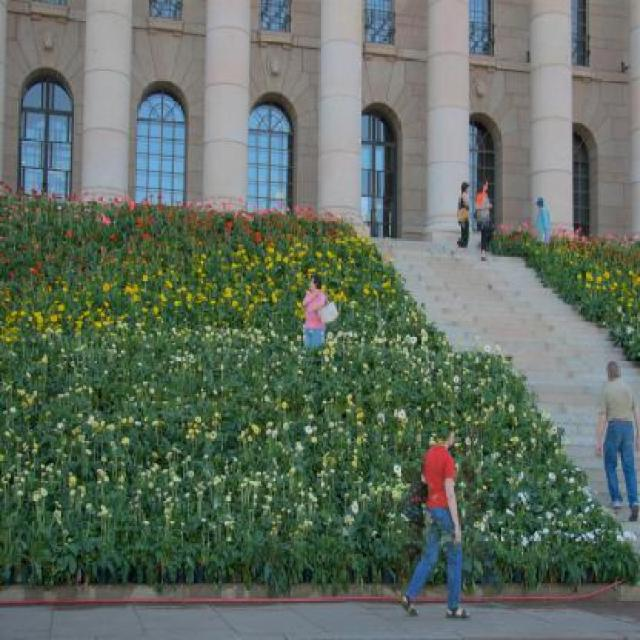Person: (411, 422, 467, 610), (597, 362, 638, 523), (300, 274, 328, 349), (452, 182, 471, 256), (478, 179, 494, 263), (535, 194, 550, 240)
